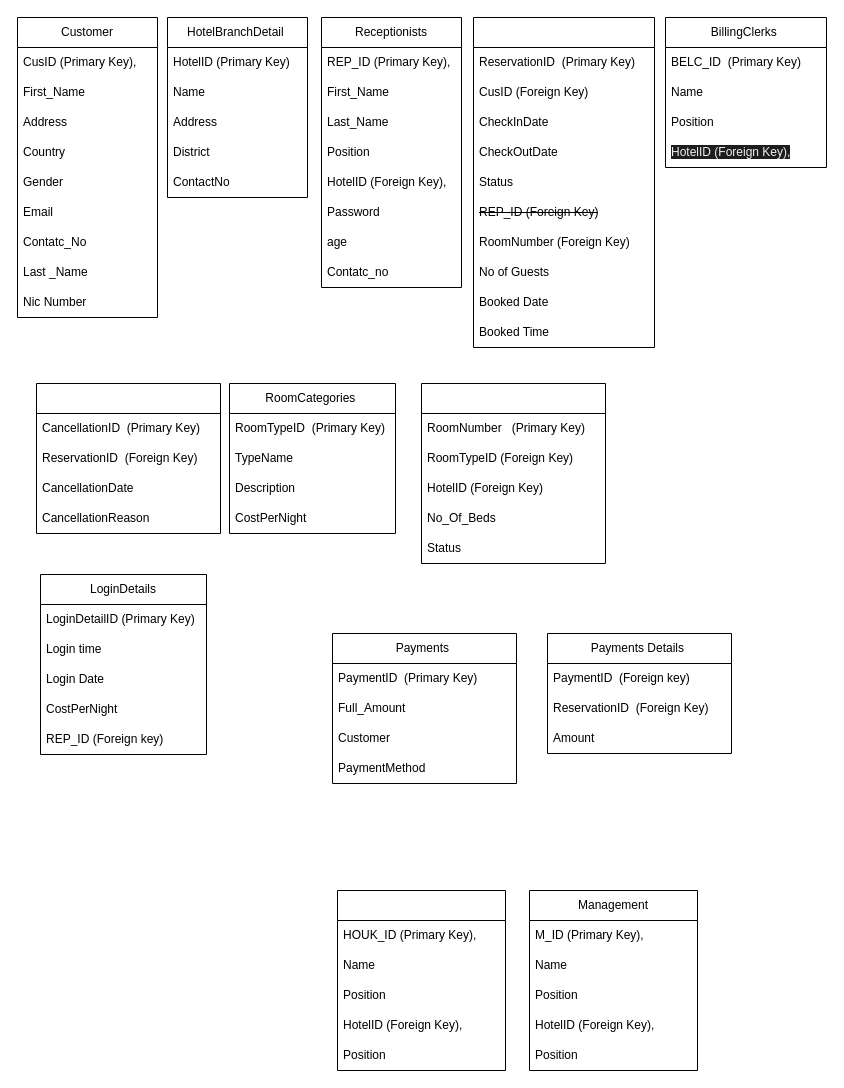
Some shapes in this 844 by 1088 pixel diagram are drawn without their labels. Each missing label, with the box of its shape:
BookingCancellation: (36, 382, 220, 534)
HouseKeeping: (336, 890, 506, 1070)
Reservations: (472, 16, 654, 348)
Rooms: (420, 382, 606, 564)
